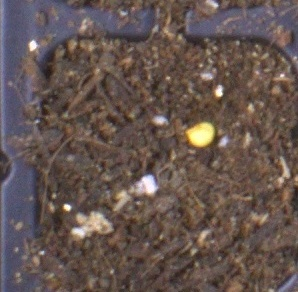chilli seed: (185, 121, 215, 147)
